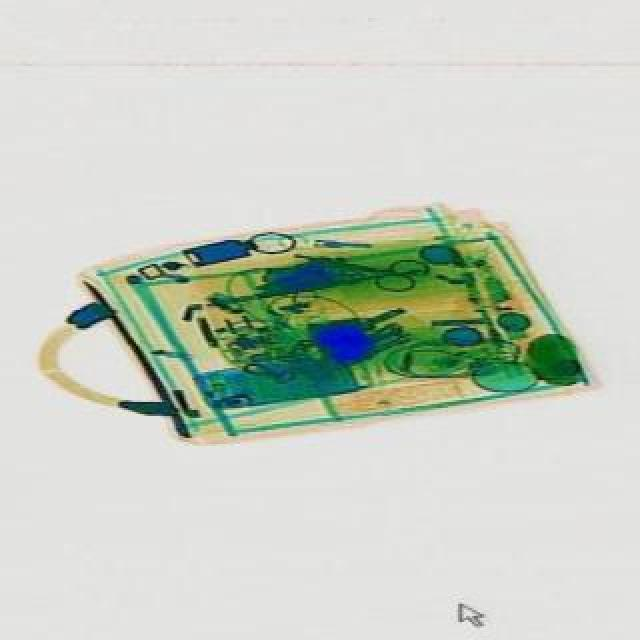pliers: (326, 240, 426, 296)
